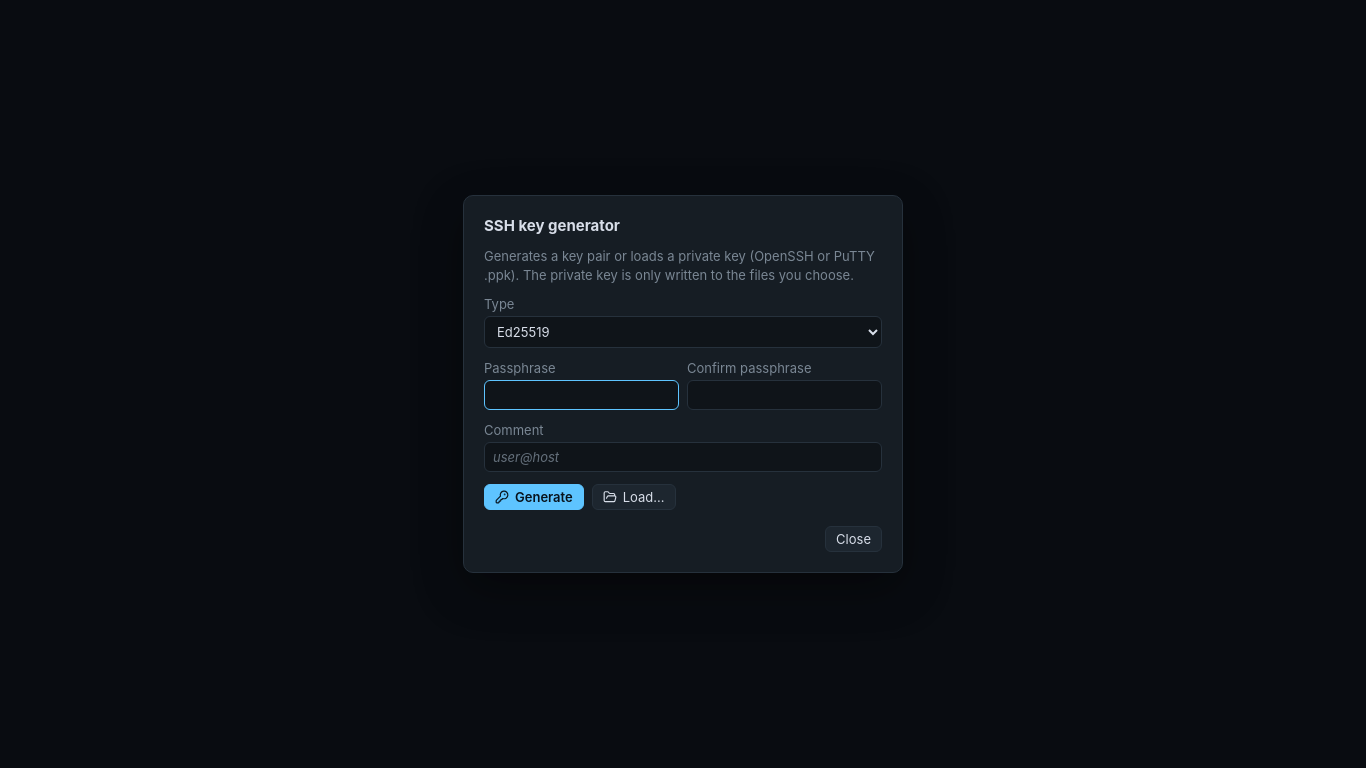
Test: KeyGenDialog › refuses to generate when the passphrases differ
Step 1. Type "one" into the password field labelled "Passphrase" → (582, 395), box [484,380,679,410]
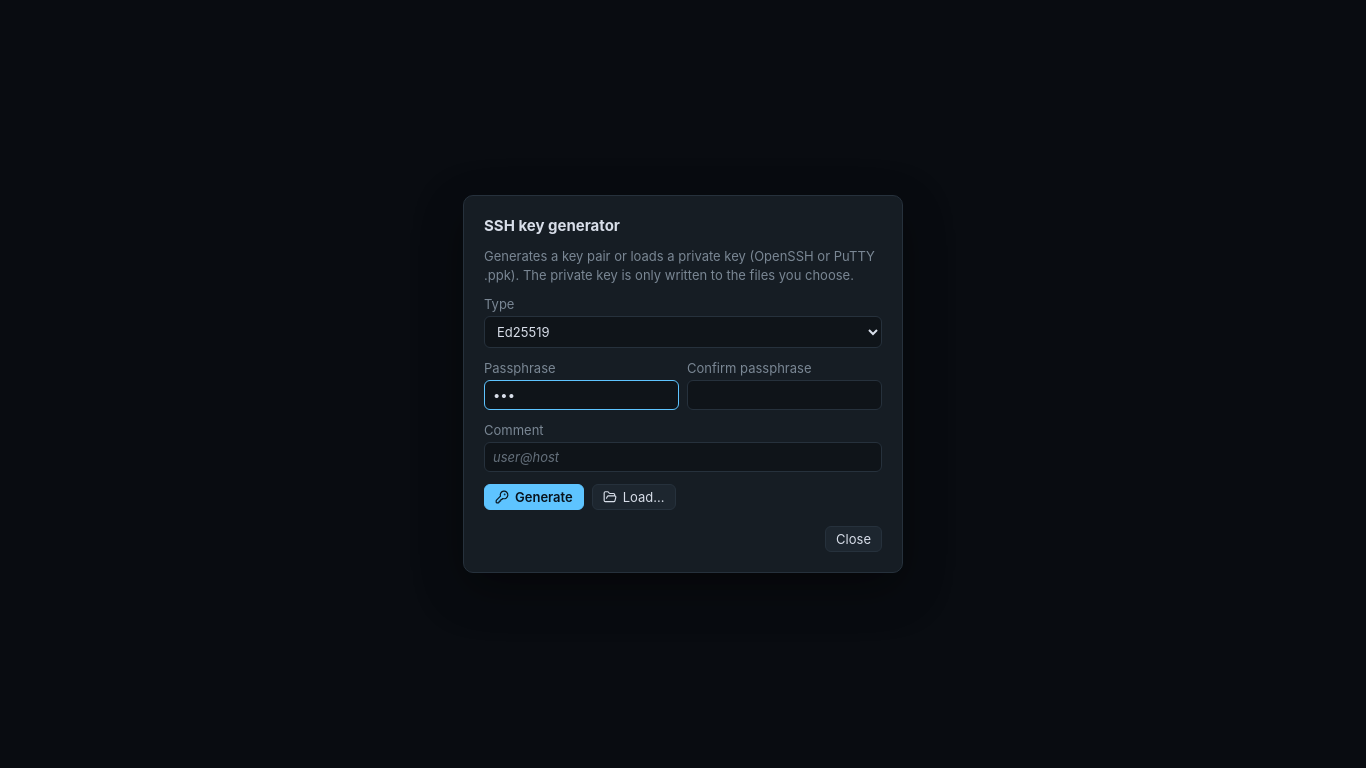
Step 2. Type "two" into the password field labelled "Confirm passphrase" → (784, 395), box [687,380,882,410]
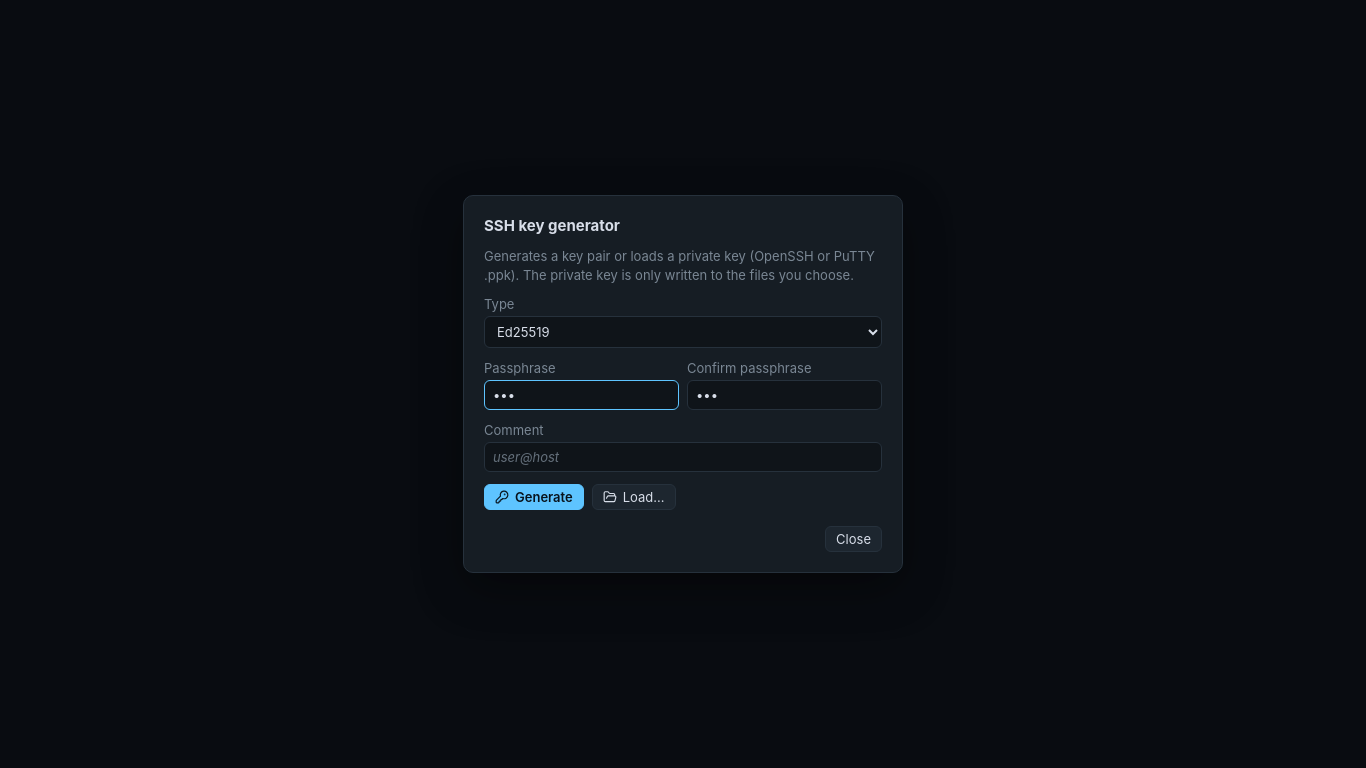
Step 3. Type "me@laptop" into the field labelled "Comment" → (683, 457), box [484,442,882,472]
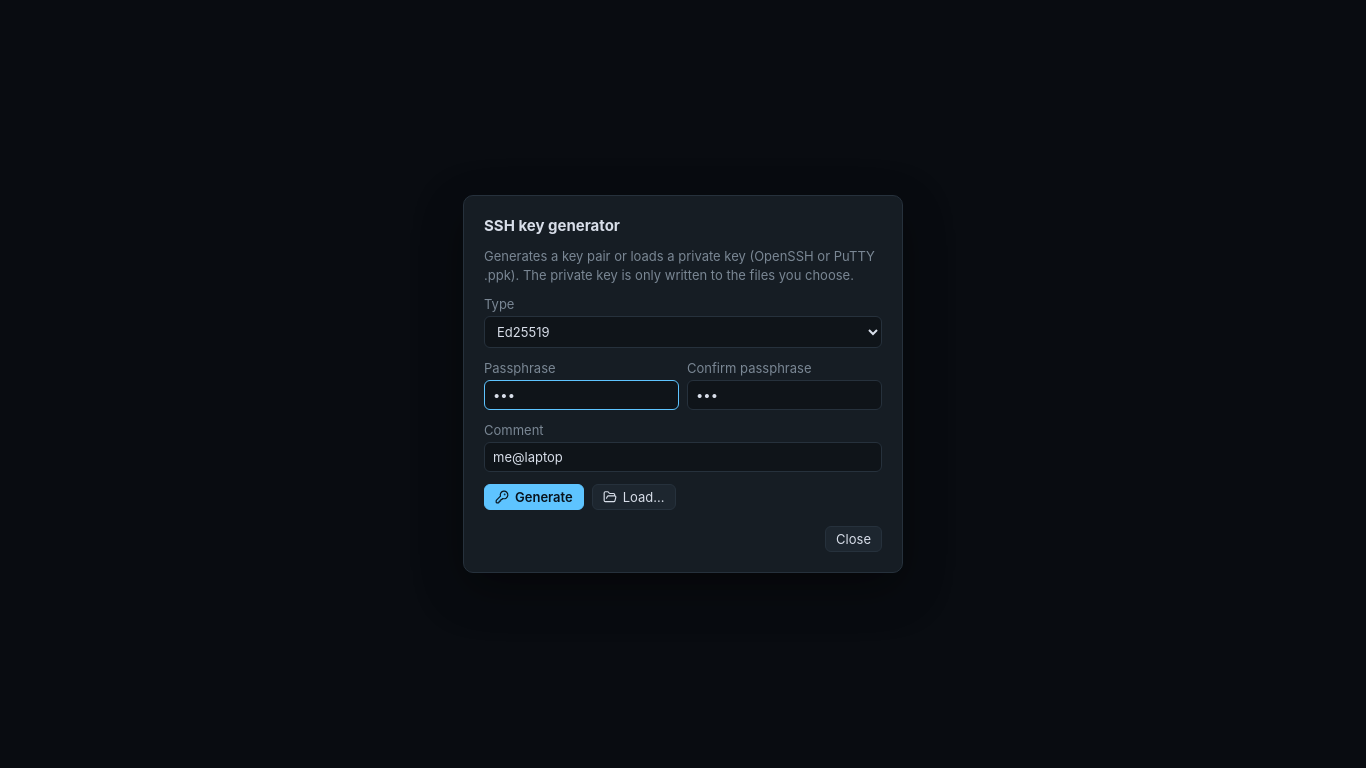
Step 4. Click the button "Generate" → (534, 497), box [484,484,584,510]
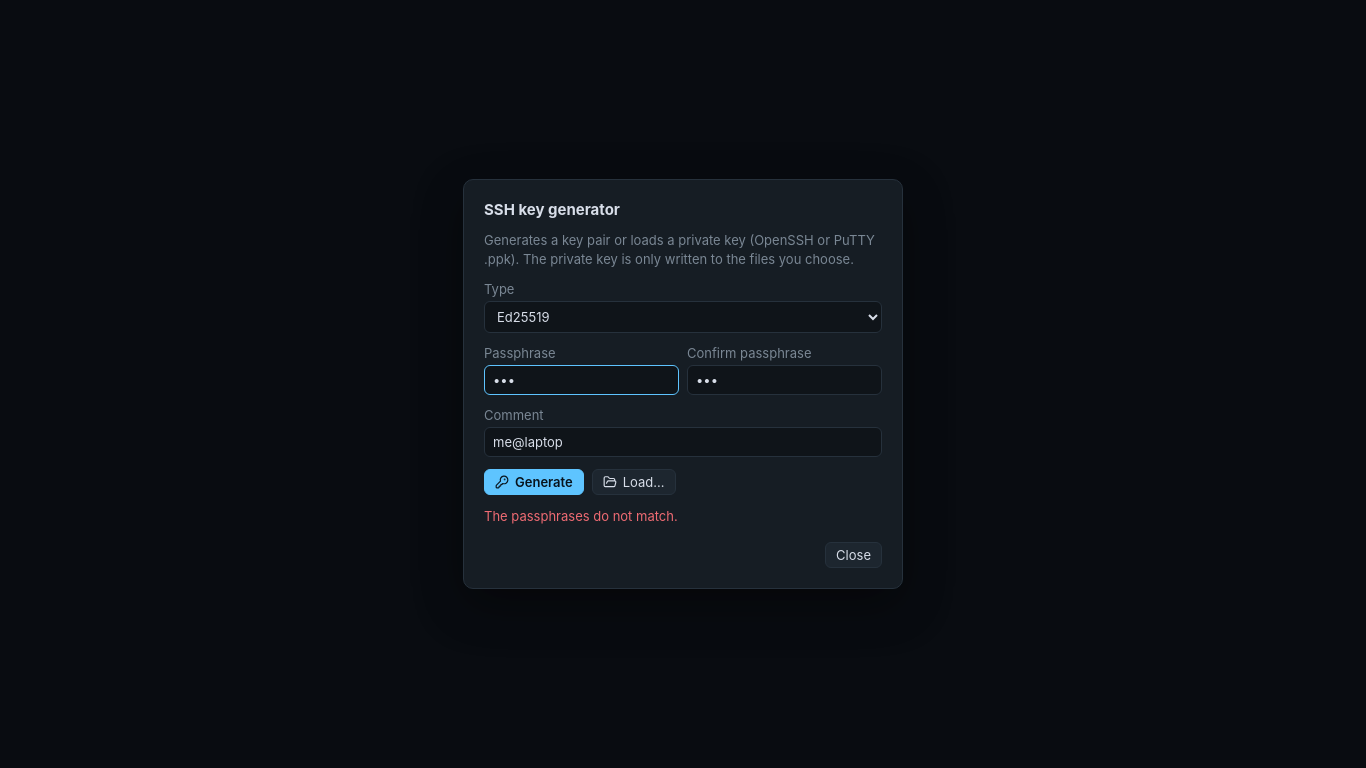
Expected: the message reads "The passphrases do not match.", [484,508,678,524]
